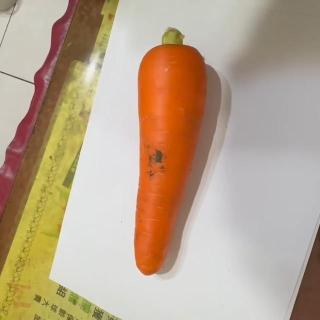carrot: (132, 27, 208, 276)
